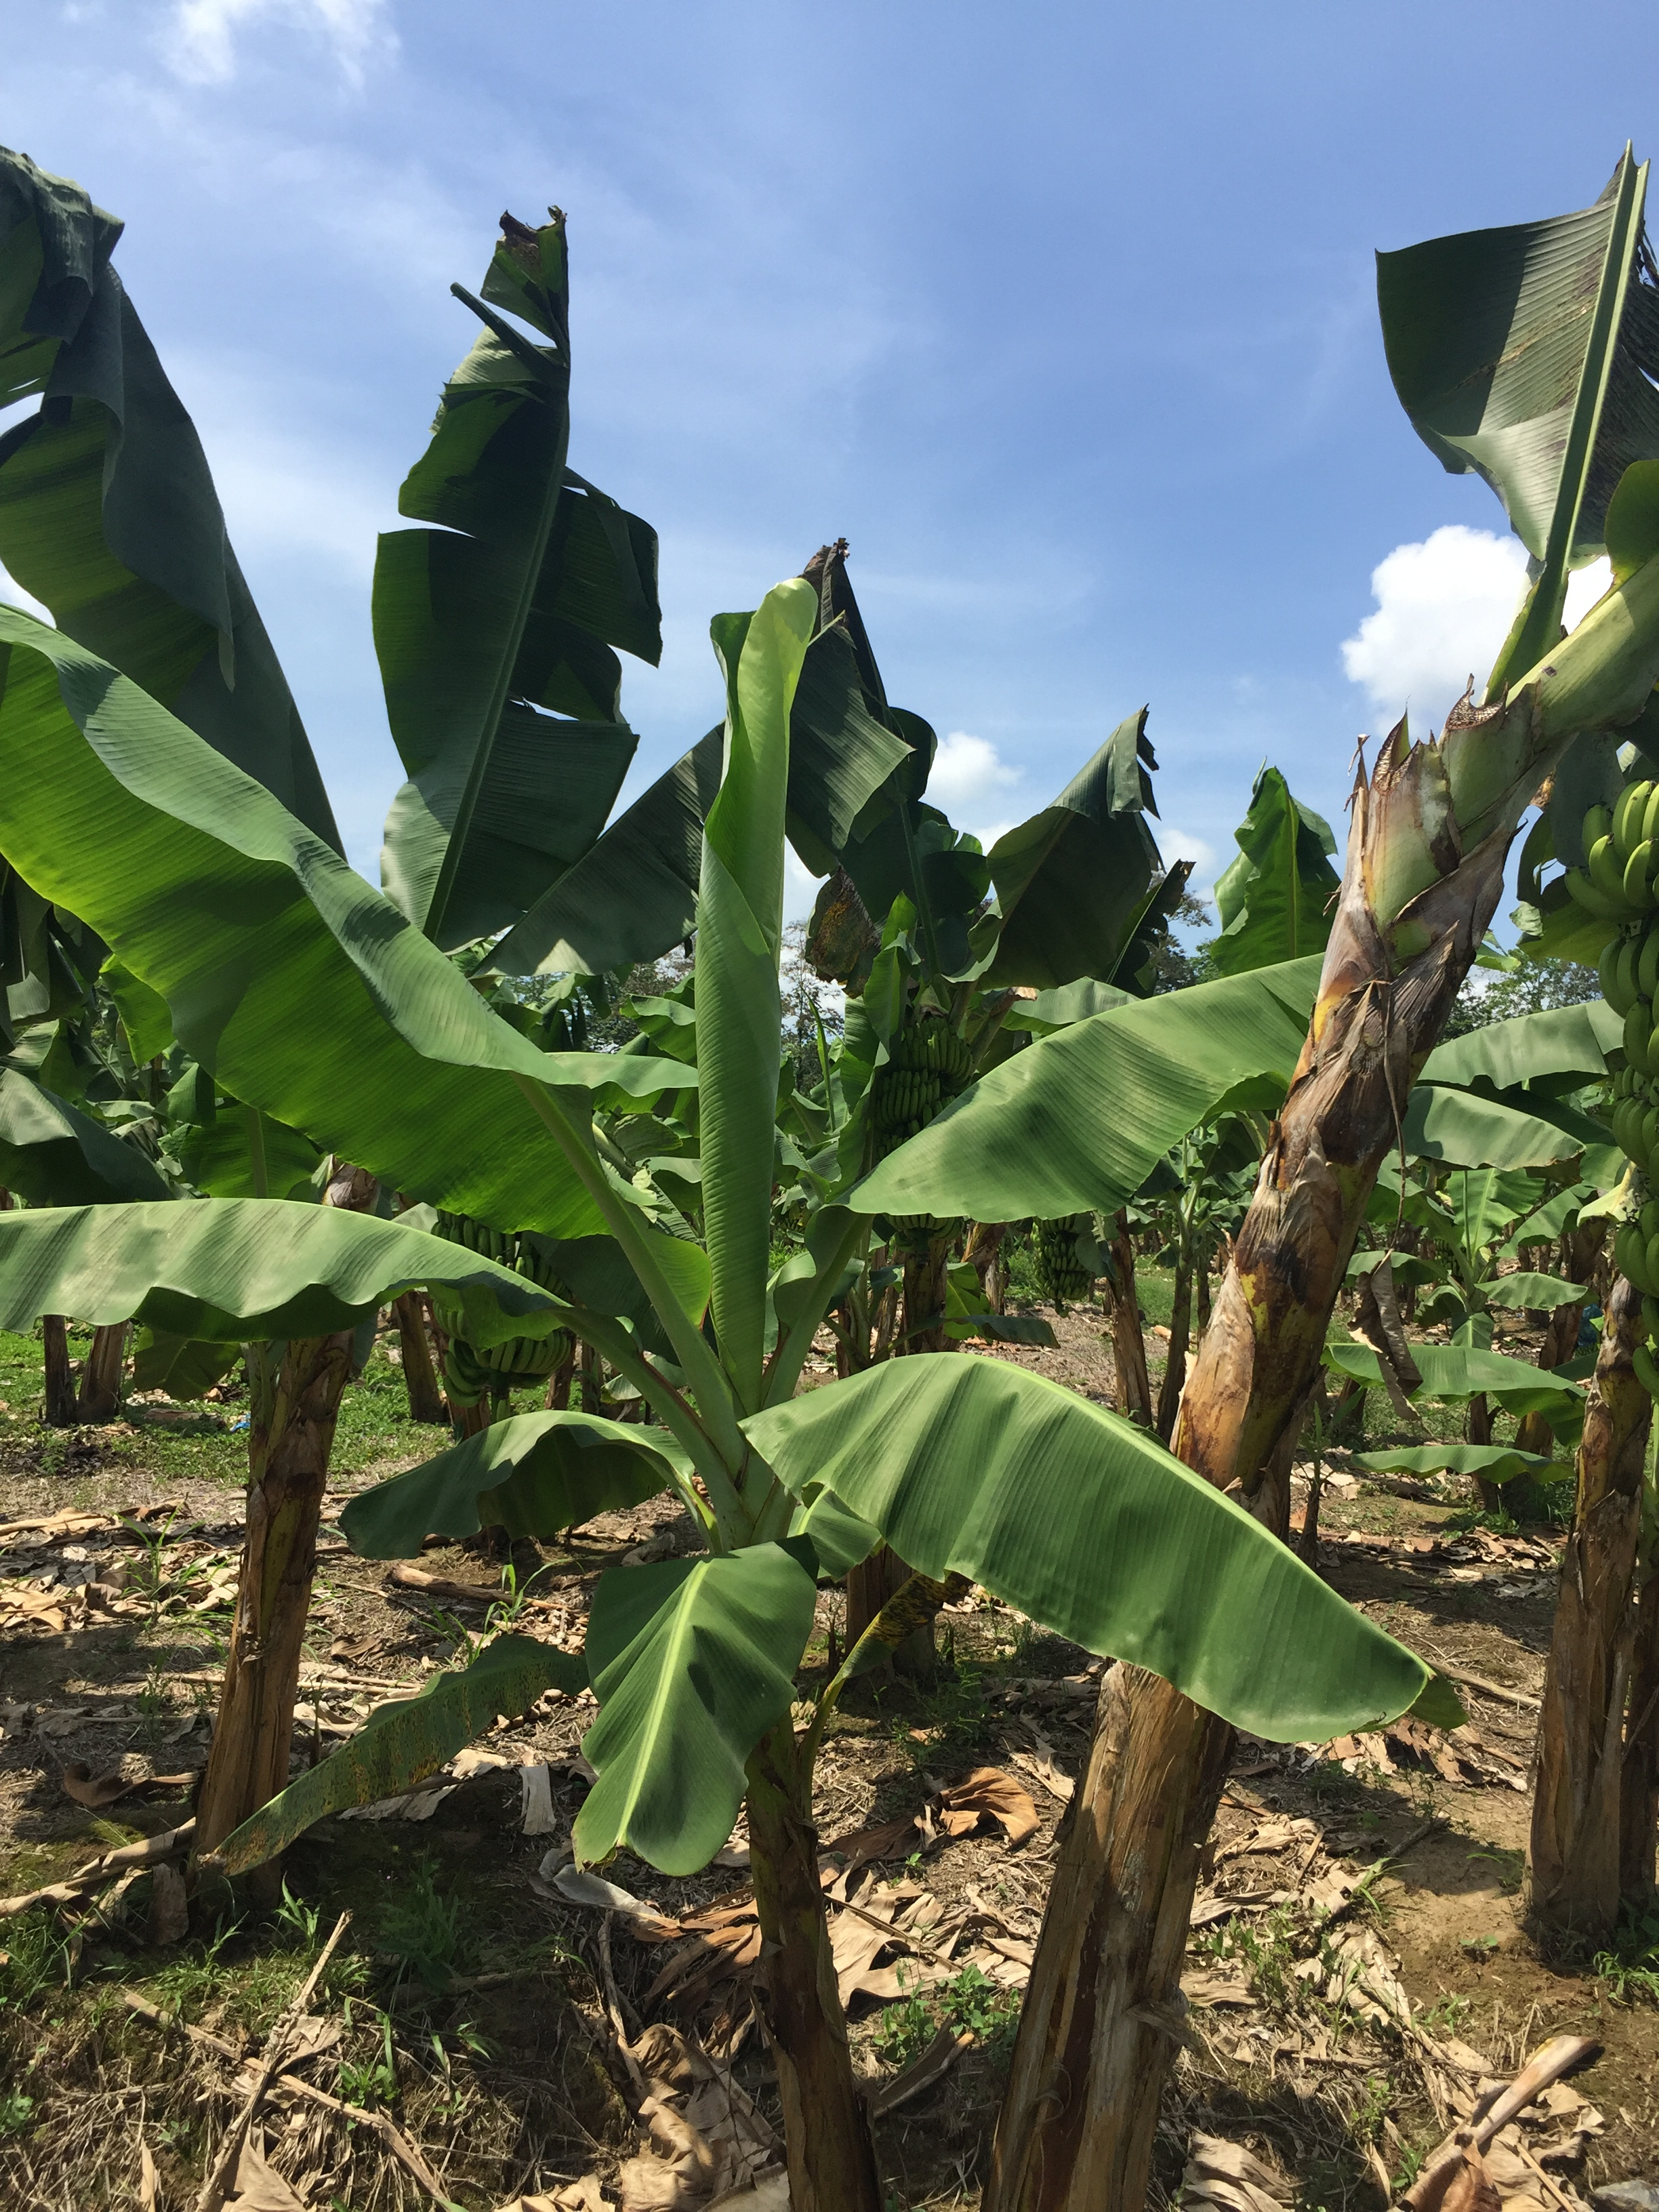candleleafs: (692, 577, 819, 1386)
